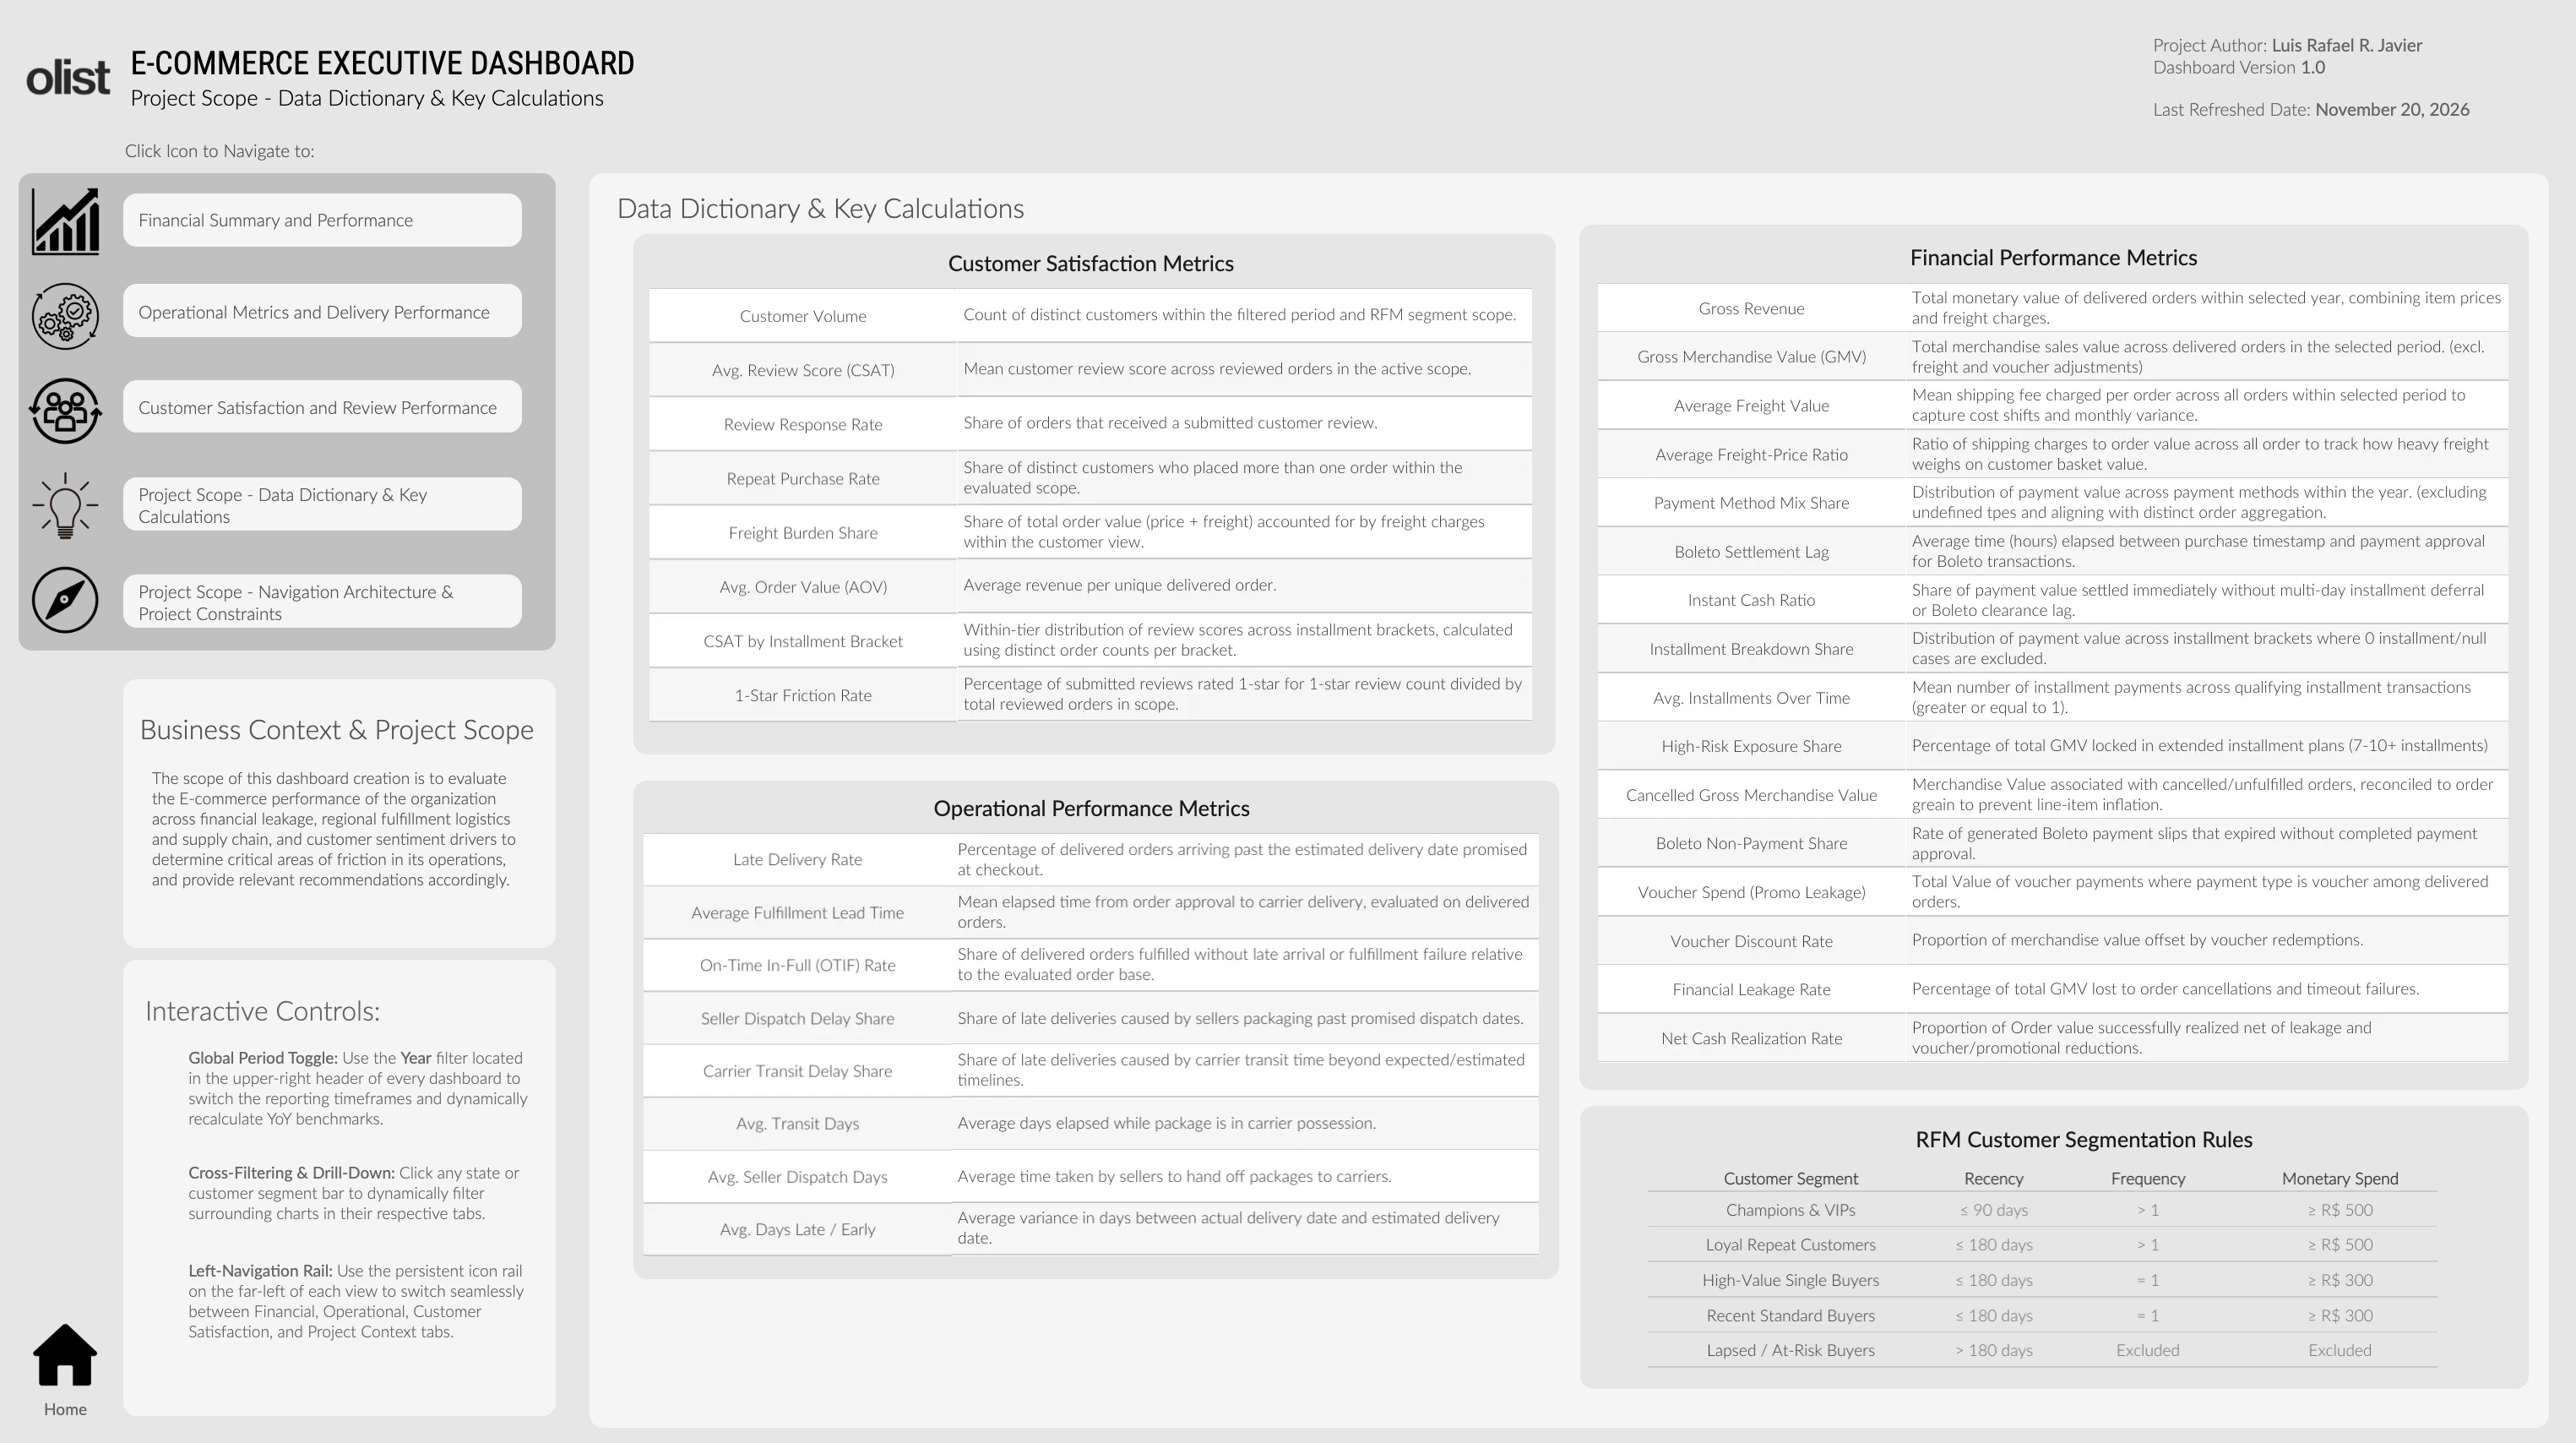

The page's visual inventory and layout, read from the dashboard file:
{"tool":"tableau","page":{"name":"4. Data Dictionary & Key Calculations","canvas":[1920,1080],"ordinal":4},"visuals":[{"type":"dashboard-object","box":[19.1,20.8,81,80.9]},{"type":"text","box":[100.1,20.8,1497,80.9]},{"type":"text","box":[1597.1,20.8,298.8,80.9]},{"type":"text","box":[100,101,189,30]},{"type":"blank","box":[21,133,398,353]},{"type":"blank","box":[444,133,1450,928]},{"type":"dashboard-object","box":[21,134,70,70]},{"type":"text","box":[464,143,349,30]},{"type":"blank","box":[99,148,295,39]},{"type":"text","box":[110,152,271,30]},{"type":"blank","box":[1176,171,703,640]},{"type":"blank","box":[476,178,683,385]},{"type":"worksheet","title":"Customer Satisfaction Metrics","mark":"Automatic","rows":["Business Metric Used"],"box":[484,179,674,386]},{"type":"worksheet","title":"Financial Performance Metrics Definition","mark":"Automatic","rows":["Business Metric Used"],"box":[1190,179,689,625]},{"type":"dashboard-object","box":[21,204,70,70]},{"type":"blank","box":[99,215,295,39]},{"type":"text","box":[110,220,271,30]},{"type":"dashboard-object","box":[21,274,70,70]},{"type":"blank","box":[99,286,295,39]},{"type":"text","box":[110,291,271,30]},{"type":"dashboard-object","box":[21,344,70,70]},{"type":"blank","box":[99,358,295,39]},{"type":"text","box":[110,362,271,30]},{"type":"dashboard-object","box":[21,414,70,70]},{"type":"blank","box":[99,430,295,39]},{"type":"text","box":[110,434,271,30]},{"type":"blank","box":[21,484,70,488]},{"type":"blank","box":[99,507,320,199]},{"type":"text","box":[111,517,293,53]},{"type":"text","box":[120,573,279,120]},{"type":"blank","box":[476,582,685,369]},{"type":"worksheet","title":"Operational Metrics","mark":"Automatic","rows":["Business Metric Used"],"box":[484,586,670,368]},{"type":"blank","box":[99,715,320,337]},{"type":"text","box":[111,735,294,33]},{"type":"blank","box":[111,768,32,256]},{"type":"text","box":[143,768,262,83]},{"type":"blank","box":[1177,823,702,209]},{"type":"worksheet","title":"RFM Customer Segmentation Rules","mark":"Polygon","rows":["Customer Segment","Recency","Frequency","Monetary Spend"],"box":[1227,831,652,189]},{"type":"text","box":[143,851,262,72]},{"type":"text","box":[143,923,262,89]},{"type":"dashboard-object","box":[21,972,70,70]},{"type":"text","box":[21,1032,70,30]}]}

Visuals, with their boxes in screenshot pixels (x1, y1, x2, y2), scaled from the page's 1920x1080 canvas onto the 2576x1443 screenshot:
dashboard-object: [x1=25, y1=28, x2=134, y2=136]
text: [x1=134, y1=28, x2=2143, y2=136]
text: [x1=2143, y1=28, x2=2544, y2=136]
text: [x1=134, y1=135, x2=388, y2=175]
blank: [x1=28, y1=177, x2=562, y2=650]
blank: [x1=595, y1=177, x2=2541, y2=1418]
dashboard-object: [x1=28, y1=179, x2=122, y2=273]
text: [x1=622, y1=191, x2=1090, y2=231]
blank: [x1=133, y1=198, x2=529, y2=250]
text: [x1=148, y1=203, x2=511, y2=243]
blank: [x1=1578, y1=228, x2=2521, y2=1084]
blank: [x1=639, y1=238, x2=1555, y2=752]
"Customer Satisfaction Metrics" worksheet: [x1=649, y1=239, x2=1554, y2=755]
"Financial Performance Metrics Definition" worksheet: [x1=1596, y1=239, x2=2521, y2=1075]
dashboard-object: [x1=28, y1=273, x2=122, y2=366]
blank: [x1=133, y1=287, x2=529, y2=340]
text: [x1=148, y1=294, x2=511, y2=334]
dashboard-object: [x1=28, y1=366, x2=122, y2=460]
blank: [x1=133, y1=382, x2=529, y2=434]
text: [x1=148, y1=389, x2=511, y2=429]
dashboard-object: [x1=28, y1=460, x2=122, y2=553]
blank: [x1=133, y1=478, x2=529, y2=531]
text: [x1=148, y1=483, x2=511, y2=524]
dashboard-object: [x1=28, y1=553, x2=122, y2=646]
blank: [x1=133, y1=574, x2=529, y2=627]
text: [x1=148, y1=580, x2=511, y2=620]
blank: [x1=28, y1=646, x2=122, y2=1299]
blank: [x1=133, y1=678, x2=562, y2=944]
text: [x1=149, y1=691, x2=542, y2=761]
text: [x1=161, y1=765, x2=535, y2=926]
blank: [x1=639, y1=777, x2=1557, y2=1271]
"Operational Metrics" worksheet: [x1=649, y1=783, x2=1548, y2=1275]
blank: [x1=133, y1=956, x2=562, y2=1406]
text: [x1=149, y1=982, x2=543, y2=1026]
blank: [x1=149, y1=1026, x2=192, y2=1368]
text: [x1=192, y1=1026, x2=543, y2=1137]
blank: [x1=1579, y1=1100, x2=2521, y2=1379]
"RFM Customer Segmentation Rules" worksheet (Polygon marks): [x1=1646, y1=1110, x2=2521, y2=1363]
text: [x1=192, y1=1137, x2=543, y2=1233]
text: [x1=192, y1=1233, x2=543, y2=1352]
dashboard-object: [x1=28, y1=1299, x2=122, y2=1392]
text: [x1=28, y1=1379, x2=122, y2=1419]
